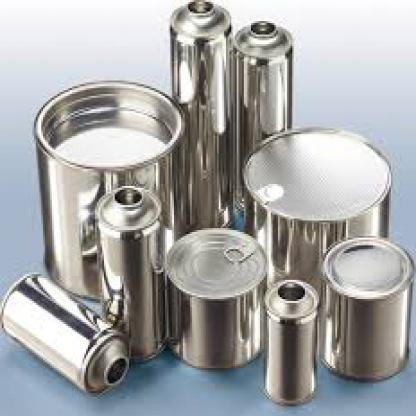METAL: (31, 78, 186, 303), (240, 123, 389, 305), (0, 270, 129, 395), (168, 0, 232, 230), (162, 224, 264, 368), (319, 234, 411, 378), (95, 182, 165, 364), (230, 17, 290, 211), (264, 276, 319, 403)
